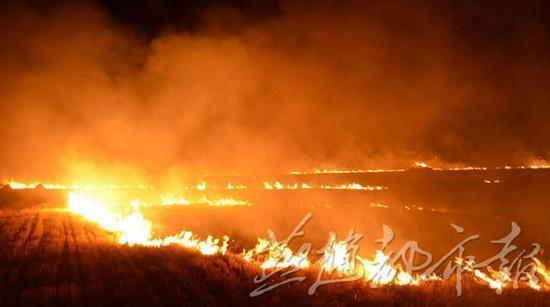fire: (15, 152, 545, 289)
